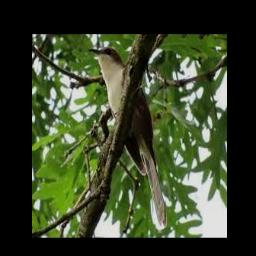Cuckoo: (88, 48, 168, 227)
